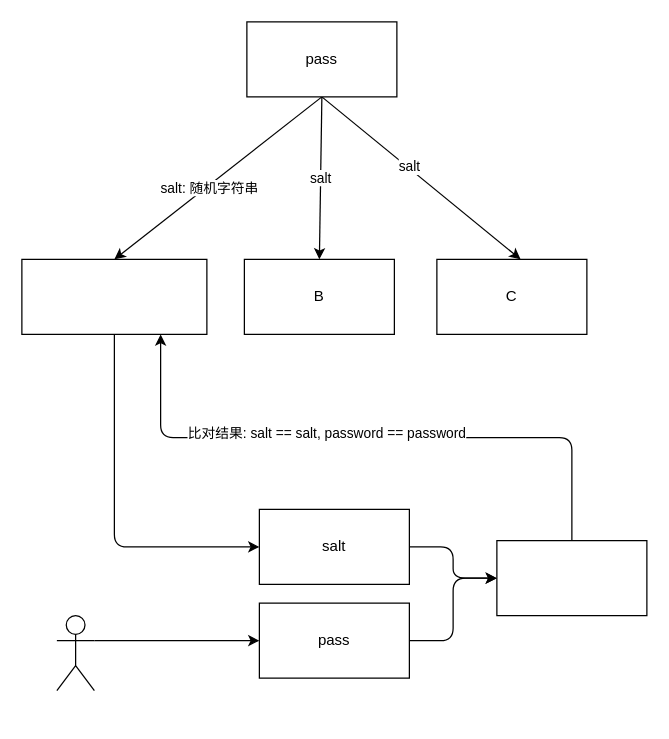
Some shapes in this 669 by 739 pixel diagram are drawn without their labels. The box of each missing label's shape, as (x1, y1, x2, y2) in pixels:
A (salt).(hash(salt+payload): (21, 258, 207, 334)
Actor: (56, 614, 94, 691)
hash(salt+pass): (496, 539, 647, 616)
